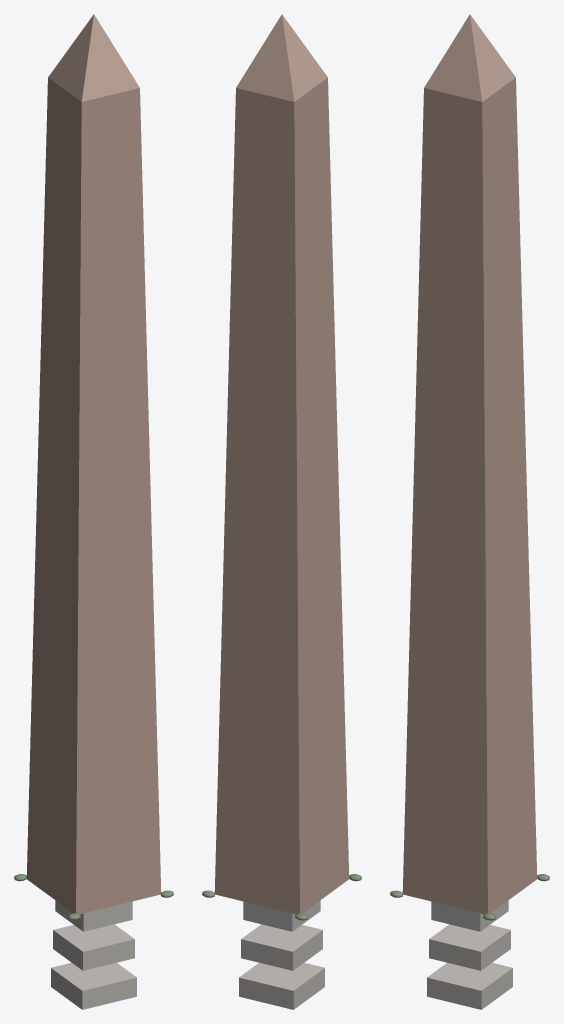
File: cp_obelisk.glb
3 renders of one model, left to right at view 1: azimuth 30°, elevation 25°; view 2: azimuth 150°, elevation 25°; view 3: azimuth 330°, elevation 25°, orthographic.
Visible parts, largest first — view 1: CP_Obelisk; view 2: CP_Obelisk; view 3: CP_Obelisk.
Boxes of the visible parts, box(x1,y1,x2,y2) form: CP_Obelisk: box(14, 14, 173, 1009); CP_Obelisk: box(202, 14, 361, 1009); CP_Obelisk: box(390, 14, 549, 1009).
Bounding box in the file's own units: 2.9 × 25.63 × 2.83.
